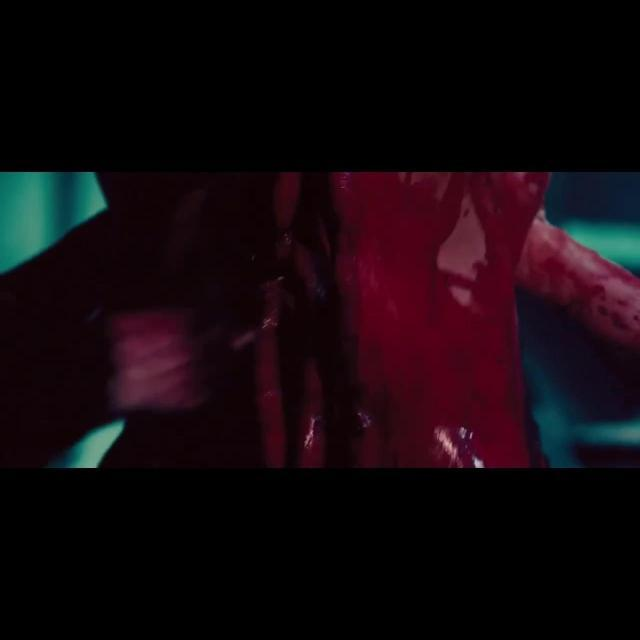blood: (96, 172, 640, 469)
